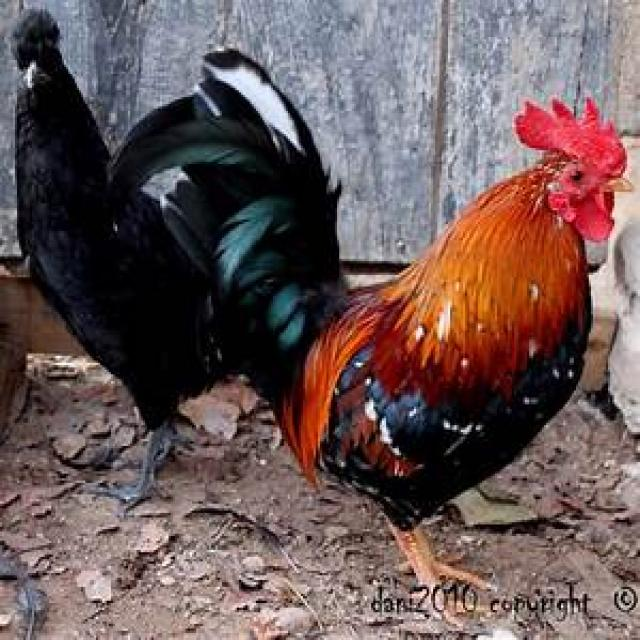hen: (201, 53, 631, 589), (9, 12, 279, 501)
